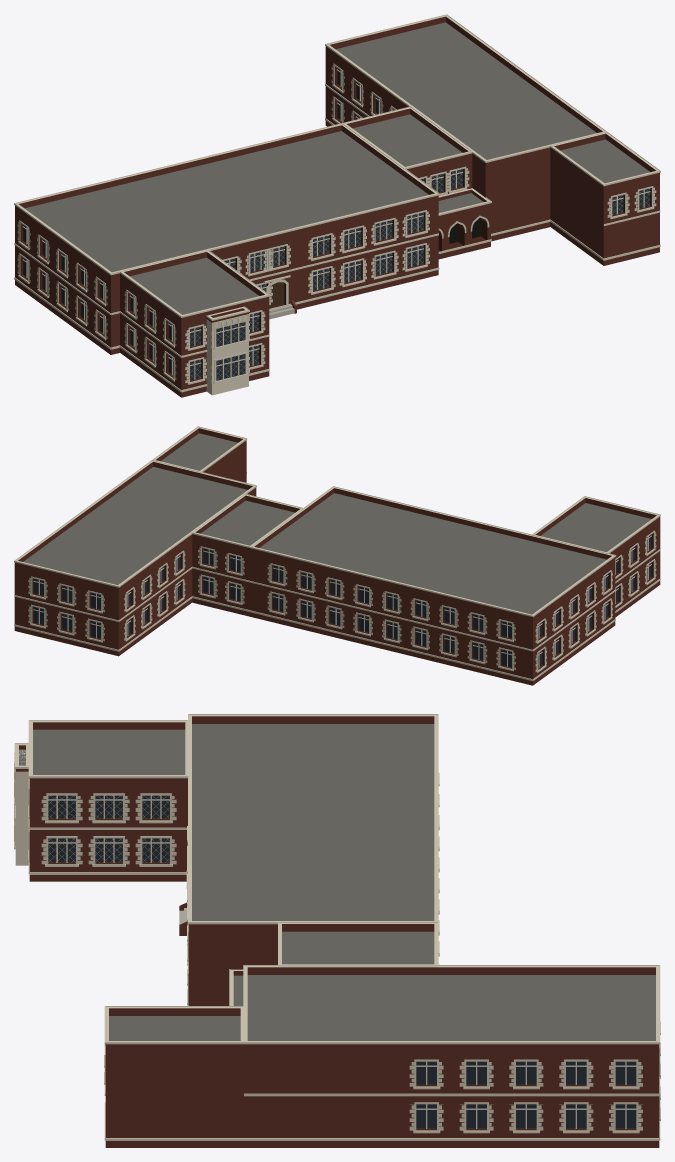
File: ch-pulaski-heights-methodist-education-1961.glb
The picture shows the model from 3 angles, top to bottom: view 1: azimuth 30°, elevation 25°; view 2: azimuth 150°, elevation 25°; view 3: azimuth 270°, elevation 25°; orthographic projection. The views are drawn at different scales.
Parts seen in each view (by area): view 1: ch_roof2, ch_brick, ch_trim, ch_glass, ch_brick2, ch_lead; view 2: ch_roof2, ch_brick, ch_trim, ch_glass, ch_brick2; view 3: ch_roof2, ch_brick, ch_trim, ch_glass, ch_brick2, ch_lead.
Boxes of the visible parts, x1,y1,x2,y2 form: ch_roof2: [25, 22, 650, 314]; ch_brick: [15, 16, 659, 397]; ch_trim: [14, 14, 660, 395]; ch_glass: [23, 68, 649, 380]; ch_brick2: [20, 66, 651, 381]; ch_lead: [190, 169, 649, 380]; ch_roof2: [23, 433, 651, 614]; ch_brick: [14, 428, 660, 685]; ch_trim: [14, 426, 660, 680]; ch_glass: [33, 535, 651, 667]; ch_brick2: [32, 533, 653, 669]; ch_roof2: [19, 724, 655, 1040]; ch_brick: [15, 716, 659, 1147]; ch_trim: [14, 714, 660, 1140]; ch_glass: [48, 795, 636, 1128]; ch_brick2: [48, 818, 636, 1130]; ch_lead: [48, 795, 169, 862].
Size of the model in its own units: 56.24 by 8.44 by 46.74.
